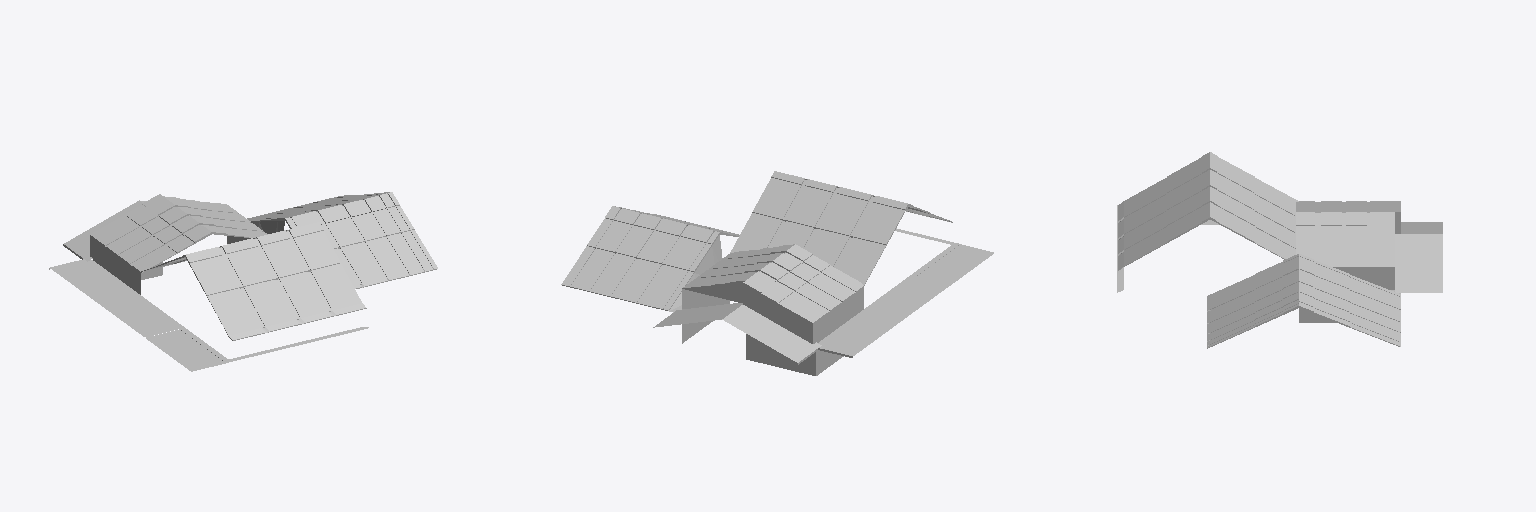
3 views of the same model, side by side, from view 1: azimuth 30°, elevation 25°; view 2: azimuth 150°, elevation 25°; view 3: azimuth 270°, elevation 25° (orthographic).
Parts seen in each view (by area): view 1: MH1_OBJ_05.003_MH1_OBJ_05.004; view 2: MH1_OBJ_05.003_MH1_OBJ_05.004; view 3: MH1_OBJ_05.003_MH1_OBJ_05.004.
Part boxes in pixels (x1,y1,x2,y2): MH1_OBJ_05.003_MH1_OBJ_05.004: (49, 192, 437, 371); MH1_OBJ_05.003_MH1_OBJ_05.004: (561, 171, 993, 375); MH1_OBJ_05.003_MH1_OBJ_05.004: (1117, 152, 1442, 348).
Bounding box in the file's own units: 129 × 44.33 × 124.